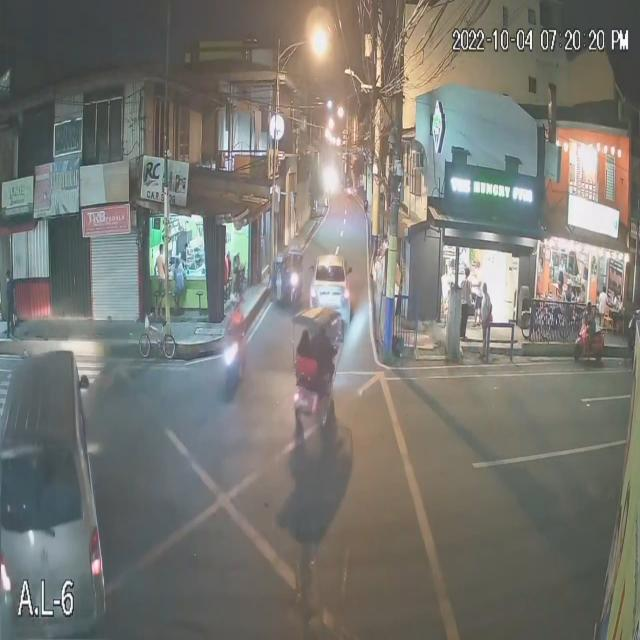Full-Faced: (230, 289, 242, 313)
